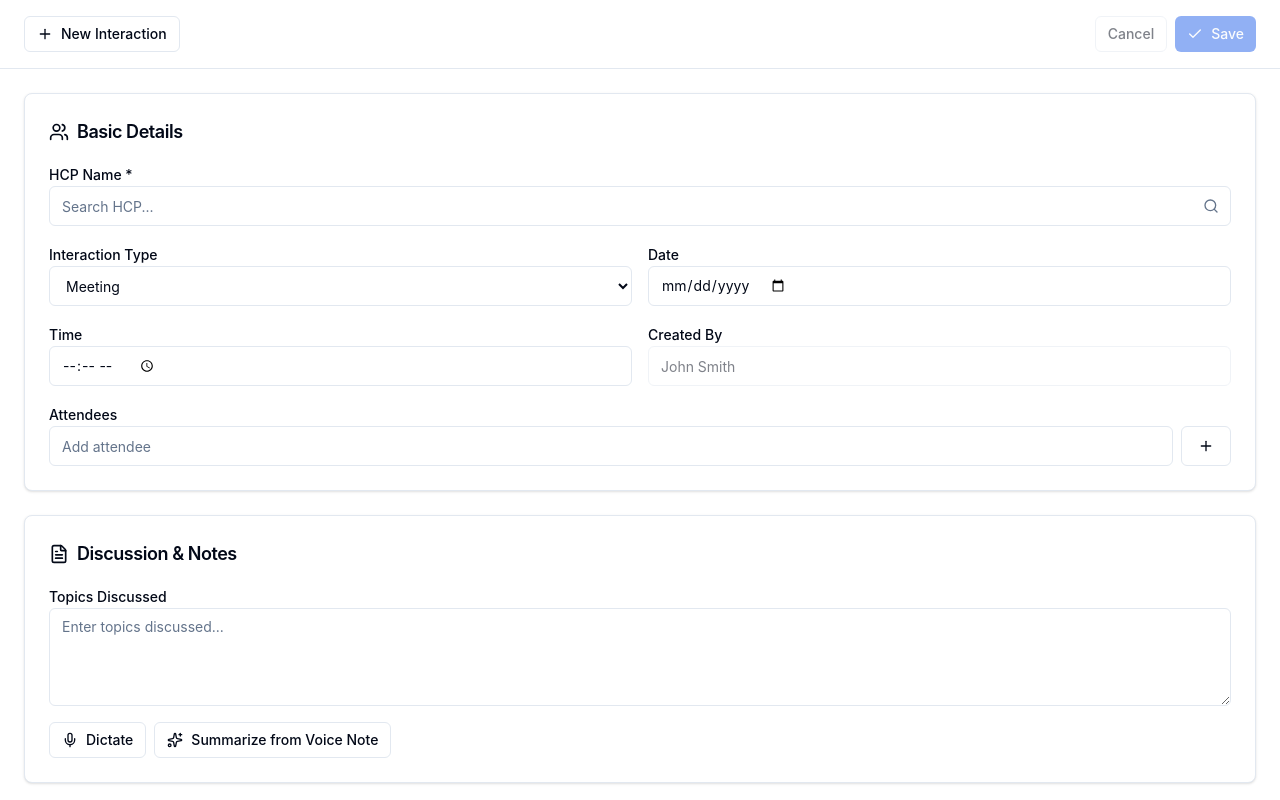
Test case: InteractionForm UI Functionality › Attendees Management › should add attendee when pressing Enter
The image size is (1280, 800).
Type "Dr. John" into the field with placeholder "Add attendee" at (611, 446), box [49,426,1173,466]
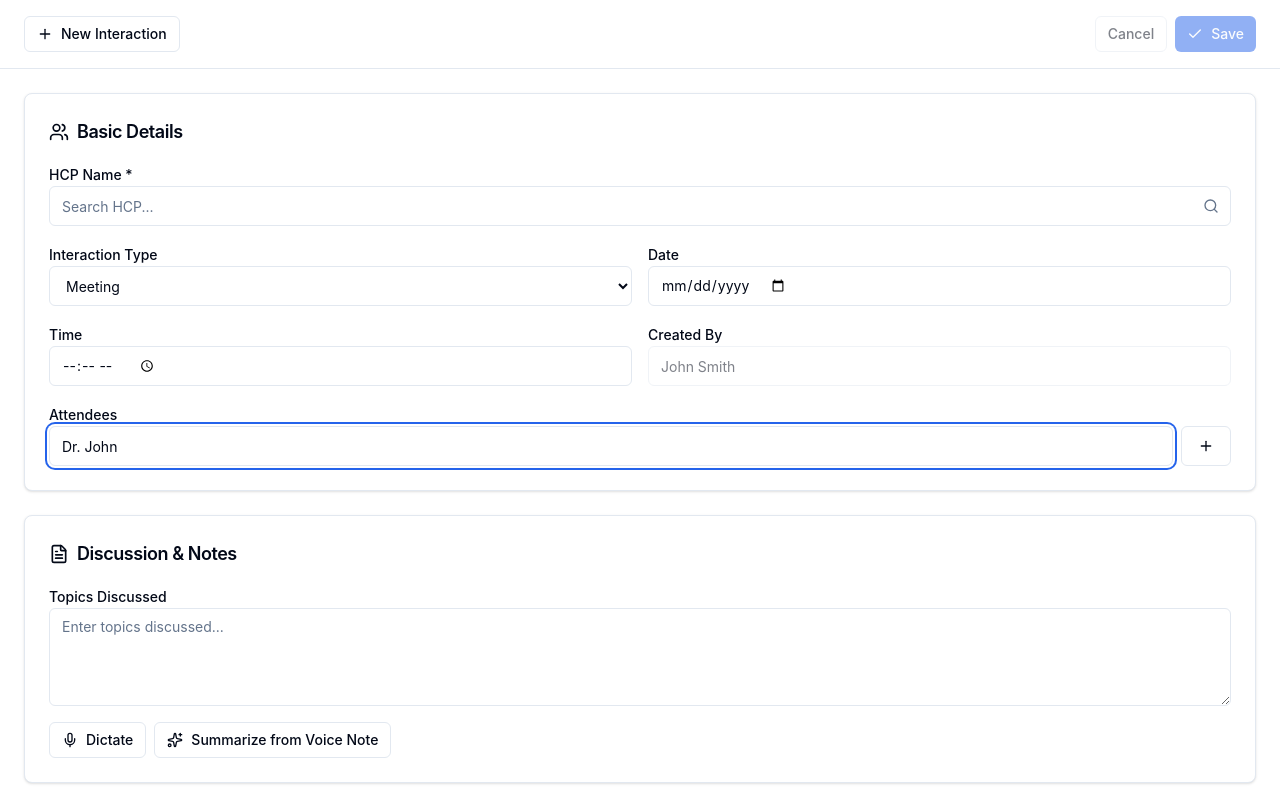
Press Enter in the field with placeholder "Add attendee" below "Attendees", box [49,426,1173,466]
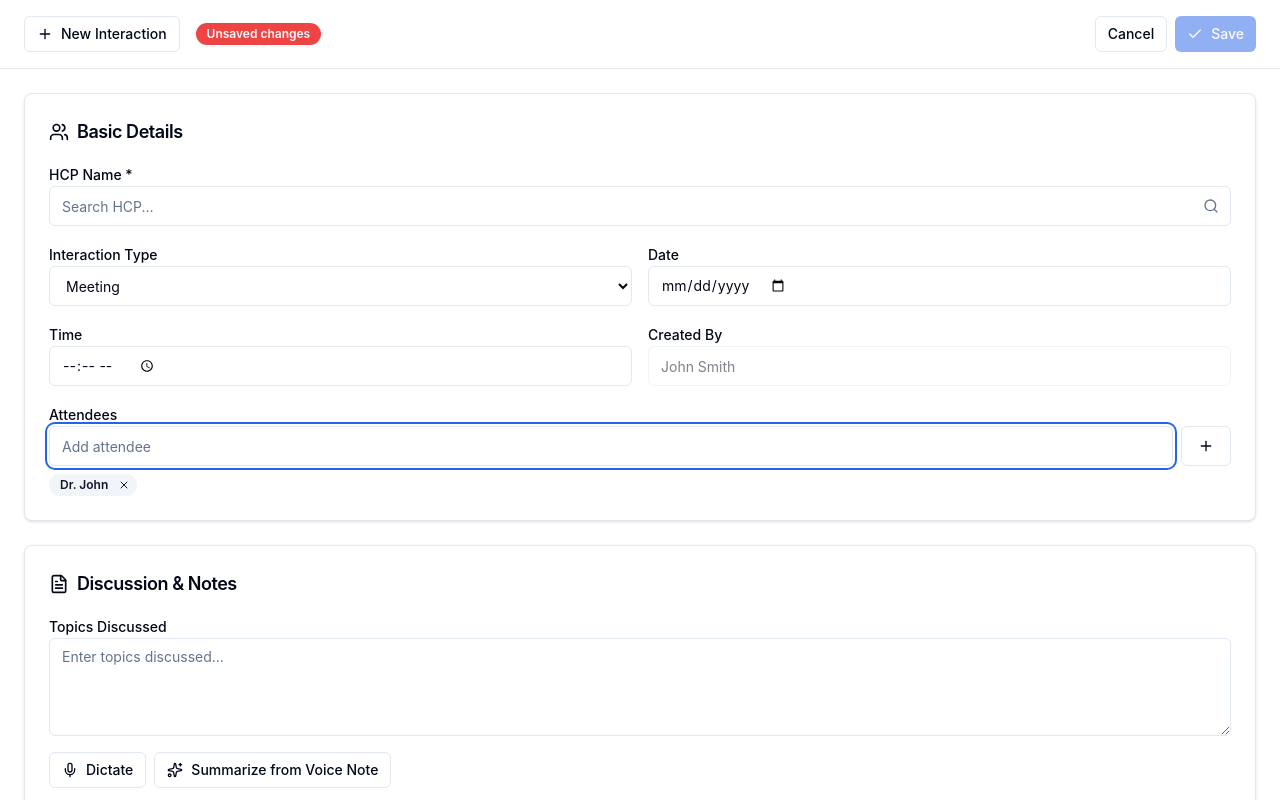
Expected: the text "Dr. John" is shown, [49,474,137,496]
